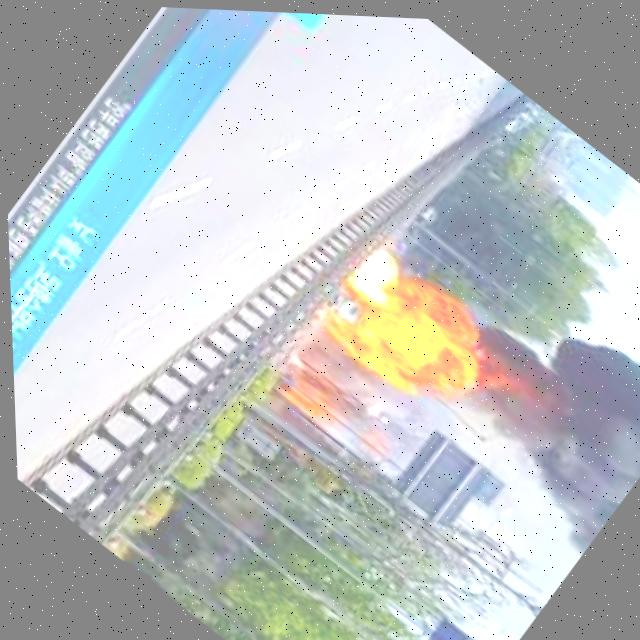Fire: (311, 243, 473, 401)
Smoke: (433, 286, 640, 551)
